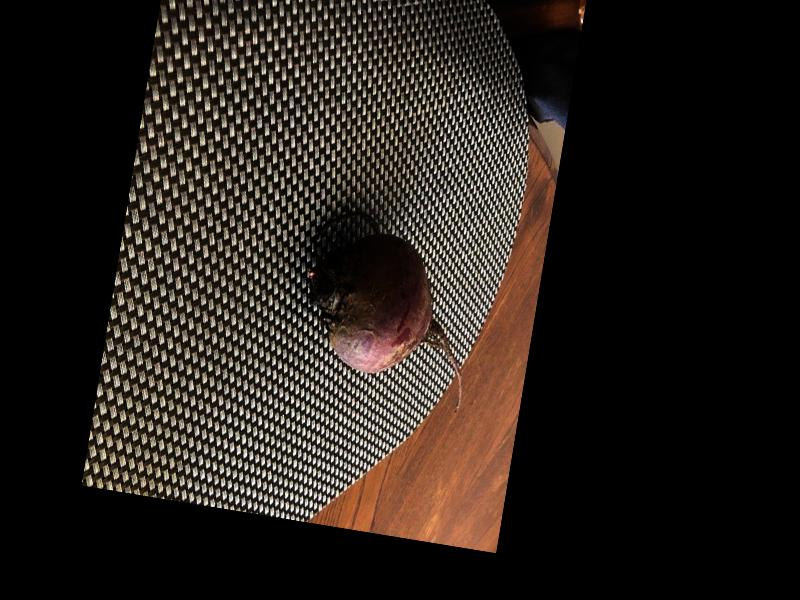Beet: (289, 203, 488, 411)
